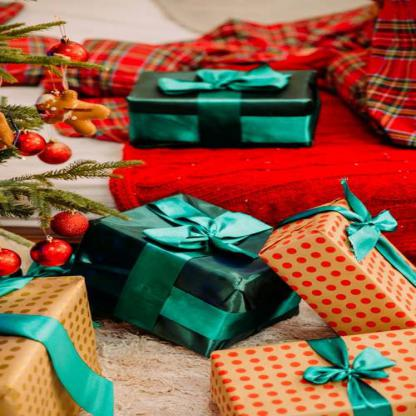present: (80, 195, 303, 340), (87, 60, 336, 154), (272, 189, 415, 333), (6, 274, 132, 414), (199, 337, 415, 416)
